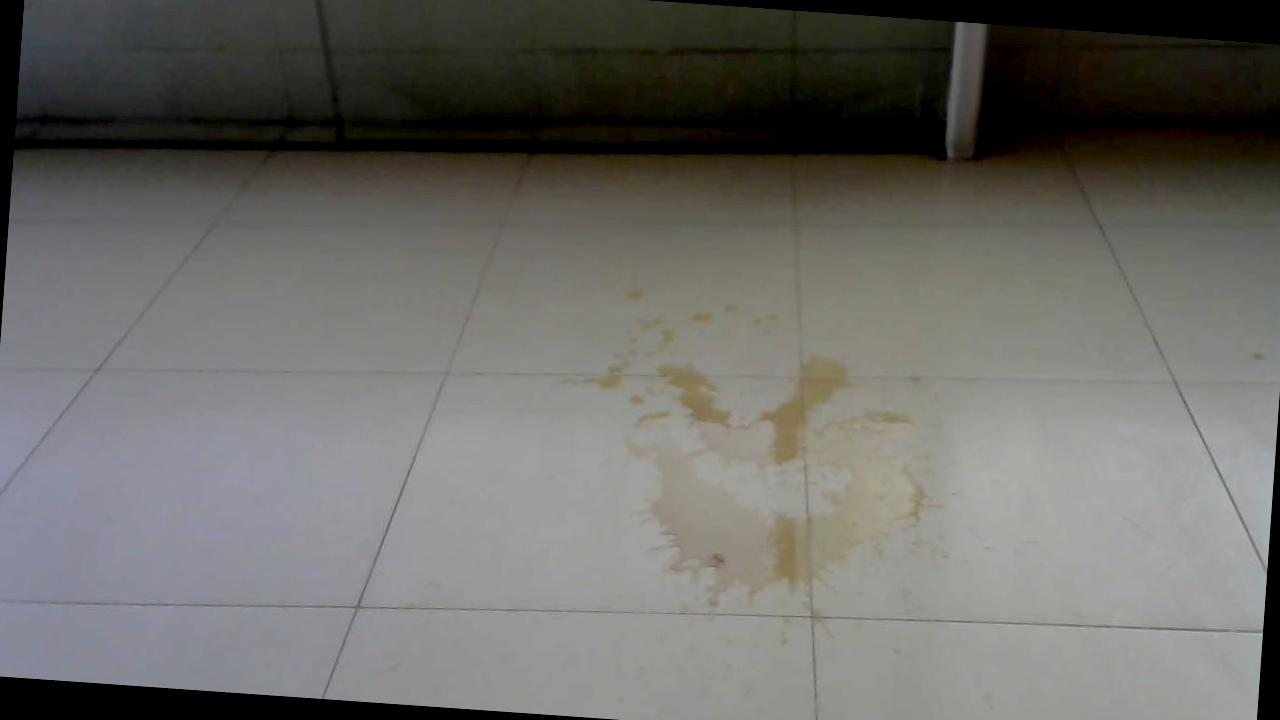dirty_floor: (575, 300, 955, 630)
